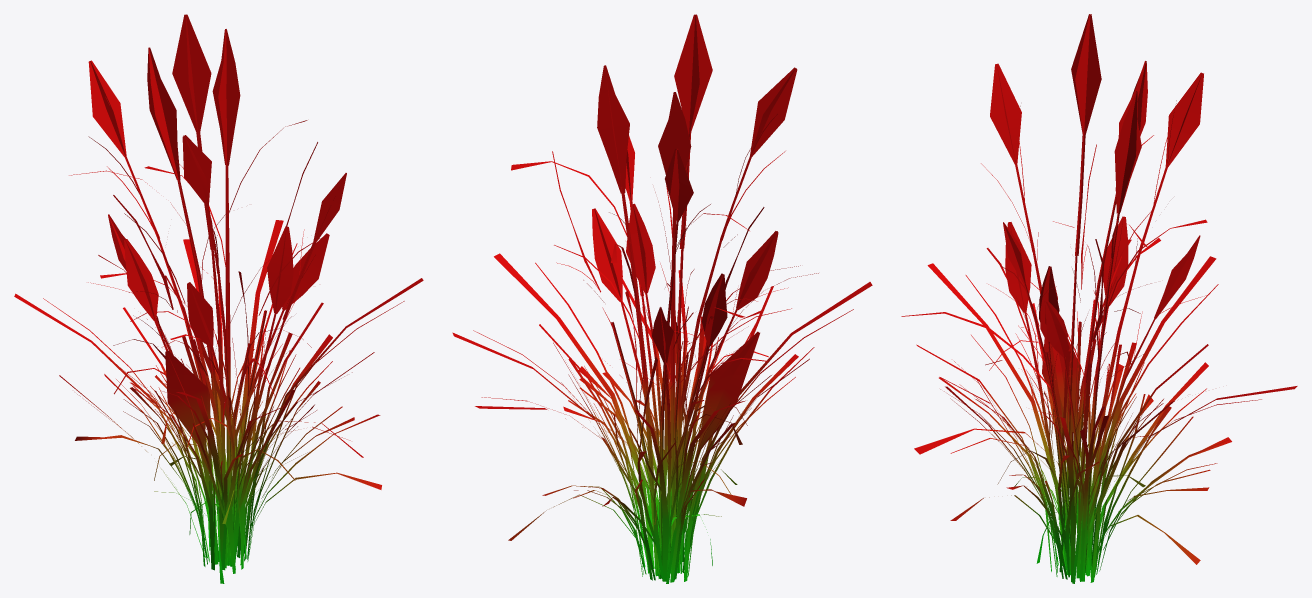
File: Rough Meadow Grass_LOD2_Var2_skFjJ.fbx
3 views of the same model, side by side, from view 1: azimuth 30°, elevation 25°; view 2: azimuth 150°, elevation 25°; view 3: azimuth 270°, elevation 25° (orthographic). The views are drawn at different scales.
Parts seen in each view (by area): view 1: _7f36_Var2_LOD2; view 2: _7f36_Var2_LOD2; view 3: _7f36_Var2_LOD2.
Part boxes in pixels (x1=…): _7f36_Var2_LOD2: x1=14, y1=14, x2=423, y2=583; _7f36_Var2_LOD2: x1=452, y1=14, x2=872, y2=583; _7f36_Var2_LOD2: x1=901, y1=14, x2=1297, y2=583.
Bounding box in the file's own units: 104 × 169 × 112.
